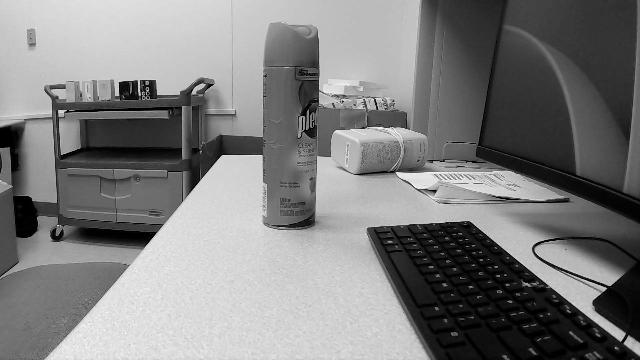Pledge: (263, 22, 320, 228)
